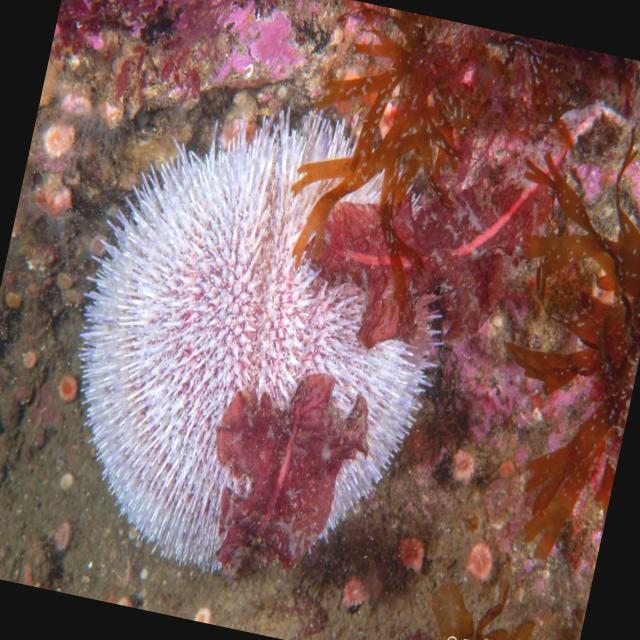Deniz Kestanesi: (31, 71, 482, 608)
